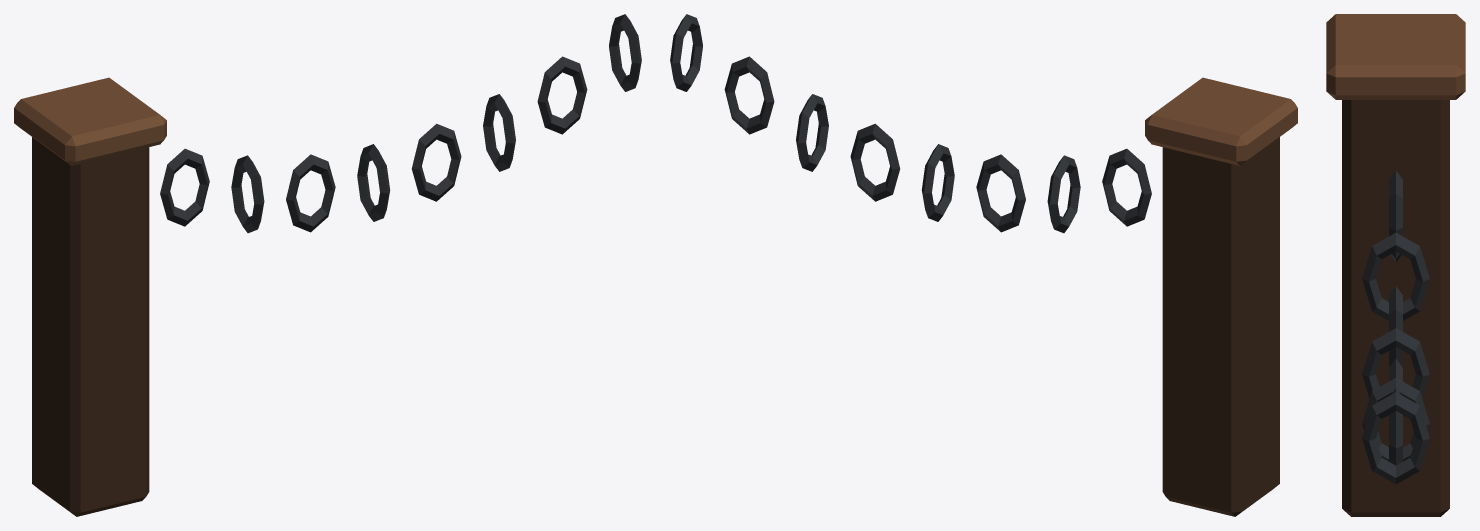
File: post.glb
3 renders of one model, left to right at view 1: azimuth 30°, elevation 25°; view 2: azimuth 150°, elevation 25°; view 3: azimuth 270°, elevation 25°, orthographic. The views are drawn at different scales.
Parts seen in each view (by area): view 1: Post; view 2: Post; view 3: Post.
Part boxes in pixels (x1,y1,x2,y2): Post: (14, 14, 641, 516); Post: (670, 14, 1297, 516); Post: (1326, 14, 1465, 516).
Bounding box in the file's own units: 1.04 × 0.655 × 0.18.
